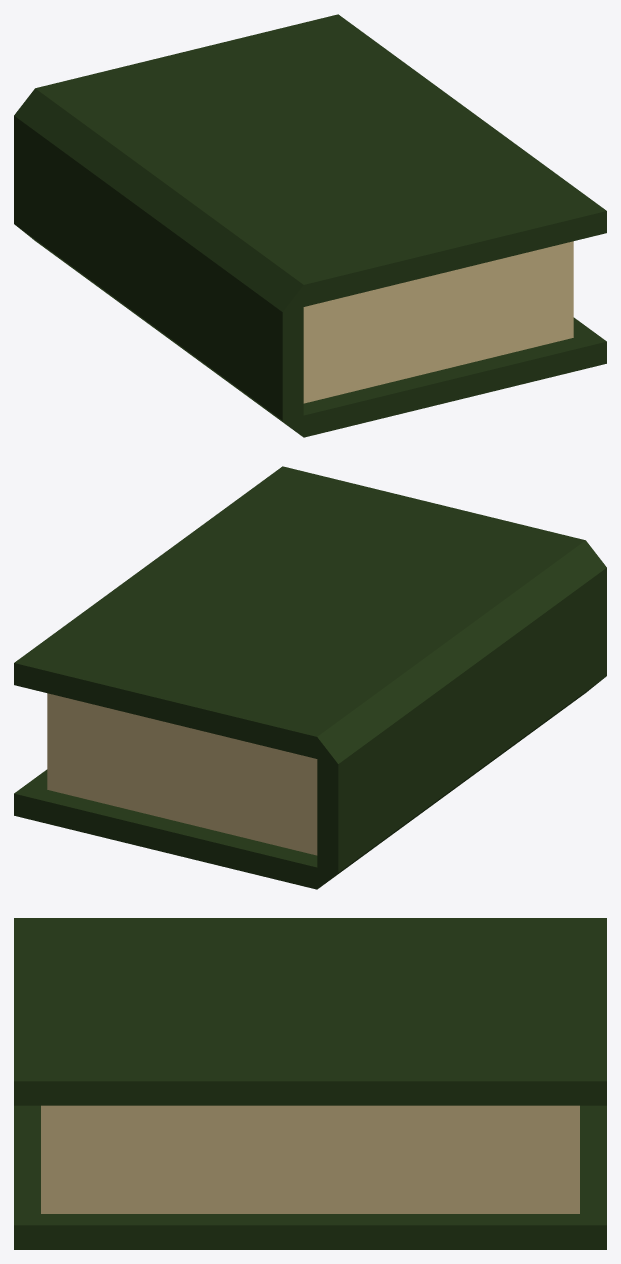
The model's file is Book2.fbx.
3 views of the same model, one above another, from view 1: azimuth 30°, elevation 25°; view 2: azimuth 150°, elevation 25°; view 3: azimuth 270°, elevation 25° (orthographic). The views are drawn at different scales.
Visible parts, largest first — view 1: Cube; view 2: Cube; view 3: Cube.
Boxes of the visible parts, bbox=[...] form: Cube: bbox=[14, 14, 606, 437]; Cube: bbox=[14, 466, 606, 889]; Cube: bbox=[14, 918, 606, 1249].
Bounding box in the file's own units: 0.345 × 0.1553 × 0.495.
